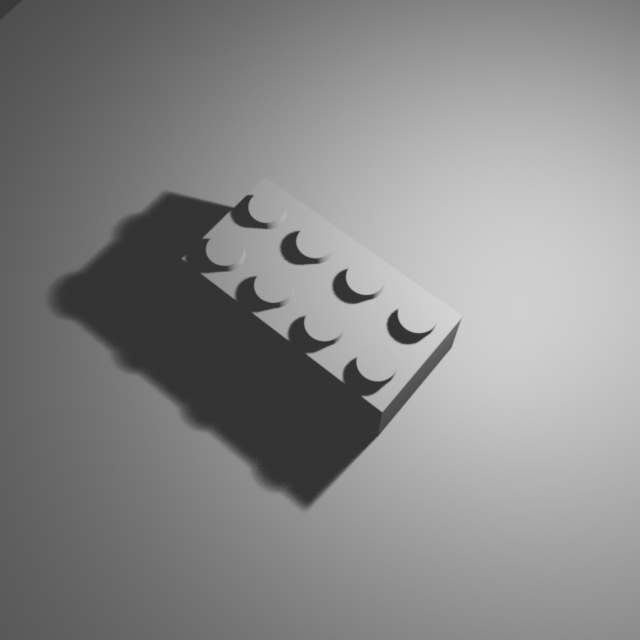lego_2x4: (180, 170, 465, 437)
